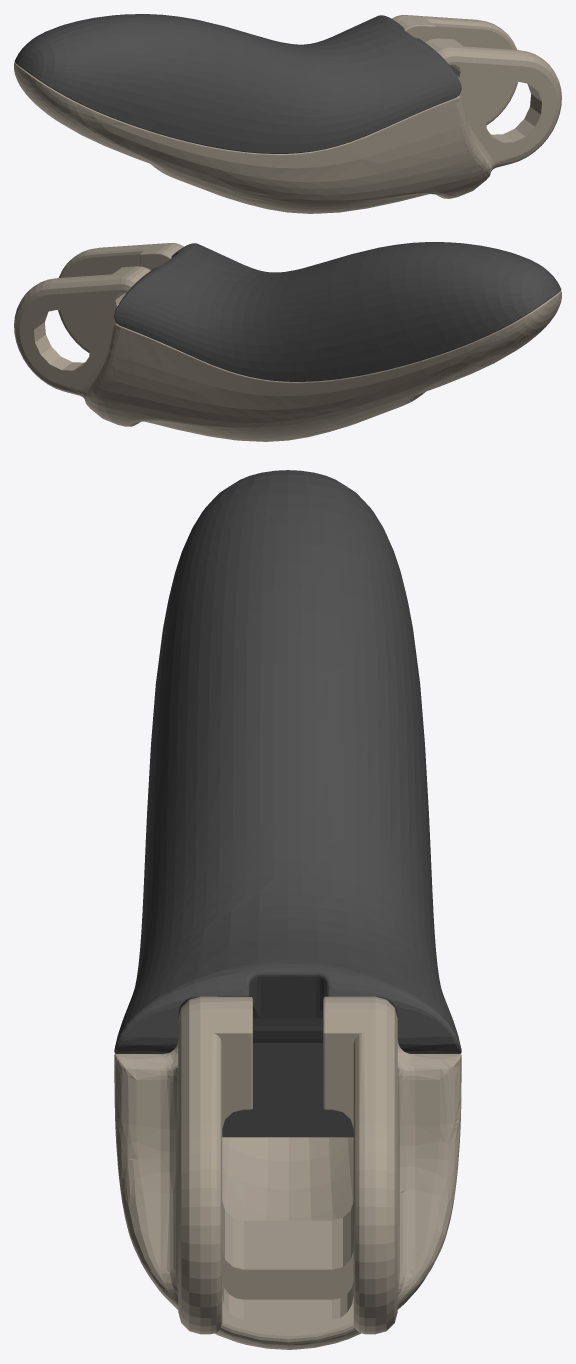
The model's file is hand1_link_4_2_visuals.obj.
3 views of the same model, one above another, from view 1: azimuth 30°, elevation 25°; view 2: azimuth 150°, elevation 25°; view 3: azimuth 270°, elevation 25° (orthographic). The views are drawn at different scales.
Size of the model in its own units: 0.0543 by 0.0251 by 0.0158.
